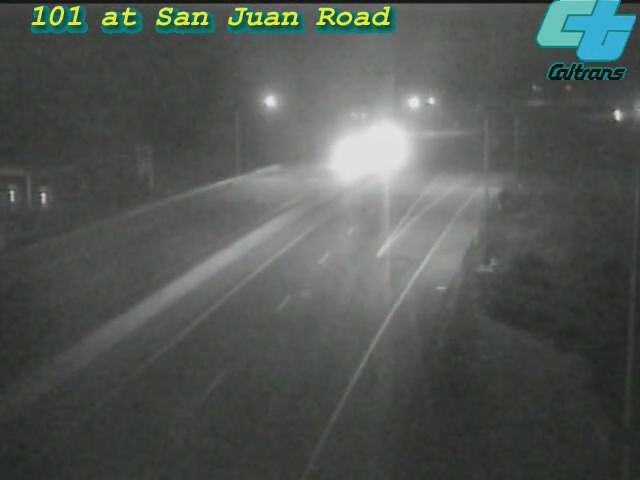vehicle: (322, 132, 372, 182), (353, 120, 403, 170), (595, 90, 640, 140)
